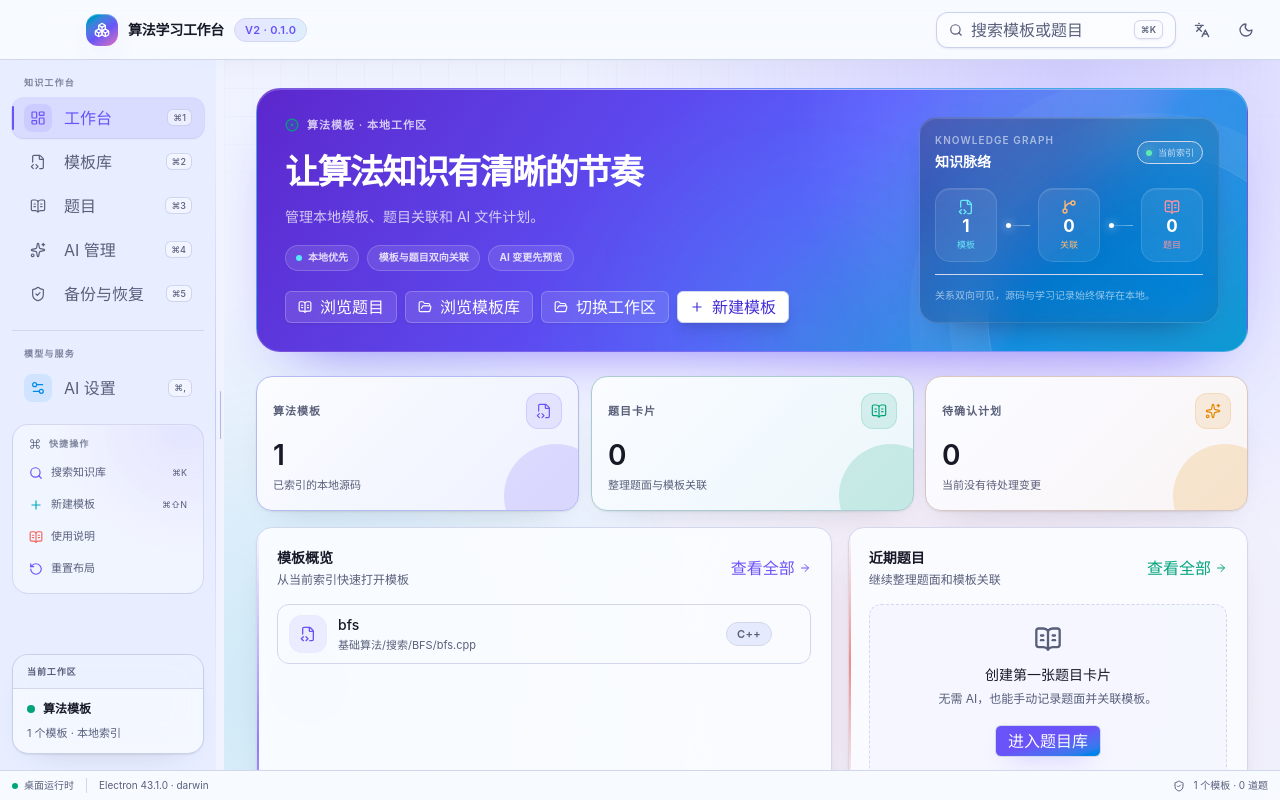
Test: App › opens a template from global search and loads source through the desktop API
Expected: the heading named "工作台" is shown, x1=285 y1=150 x2=642 y2=192
Click the button with aria-label "打开全局搜索".
click(1056, 30)  # box x1=936 y1=12 x2=1176 y2=48
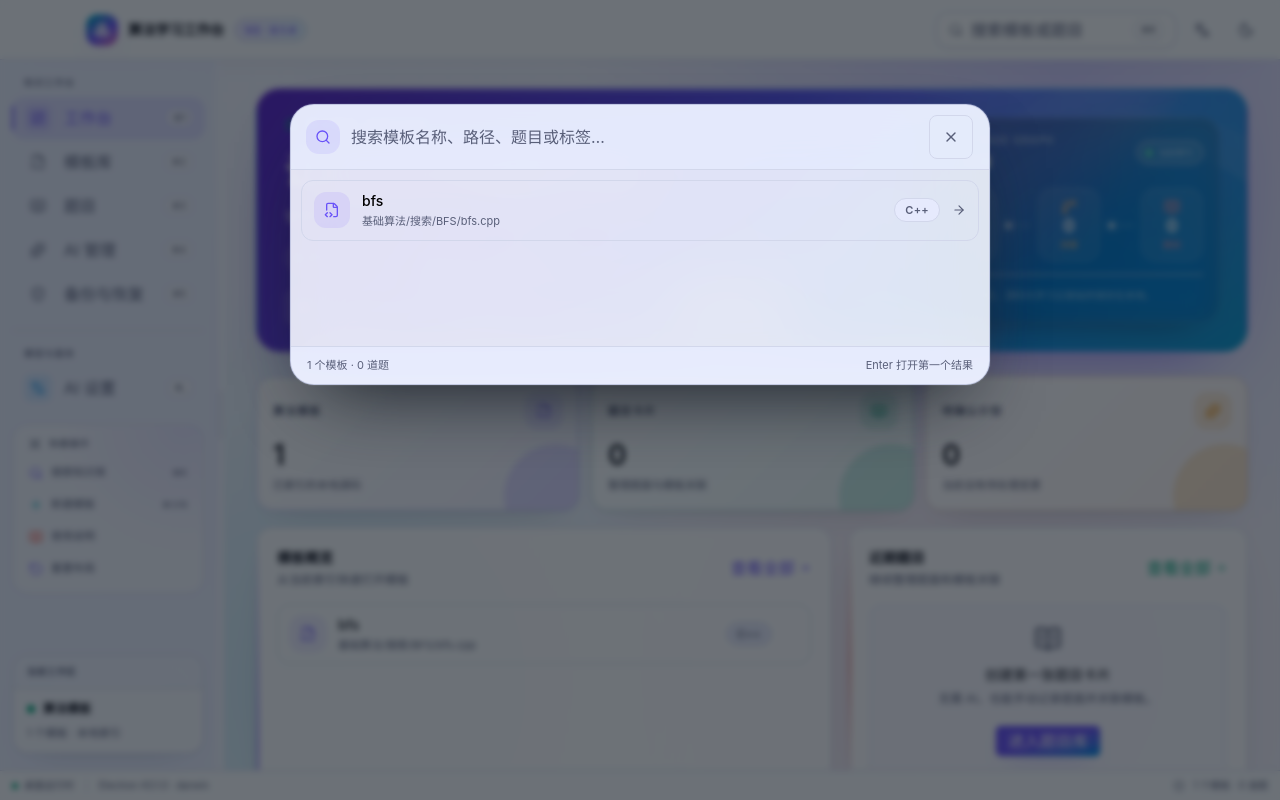
Type "bfs" into the field named "搜索模板、题目或操作".
click(634, 137); type("bfs")  # box x1=351 y1=105 x2=917 y2=169
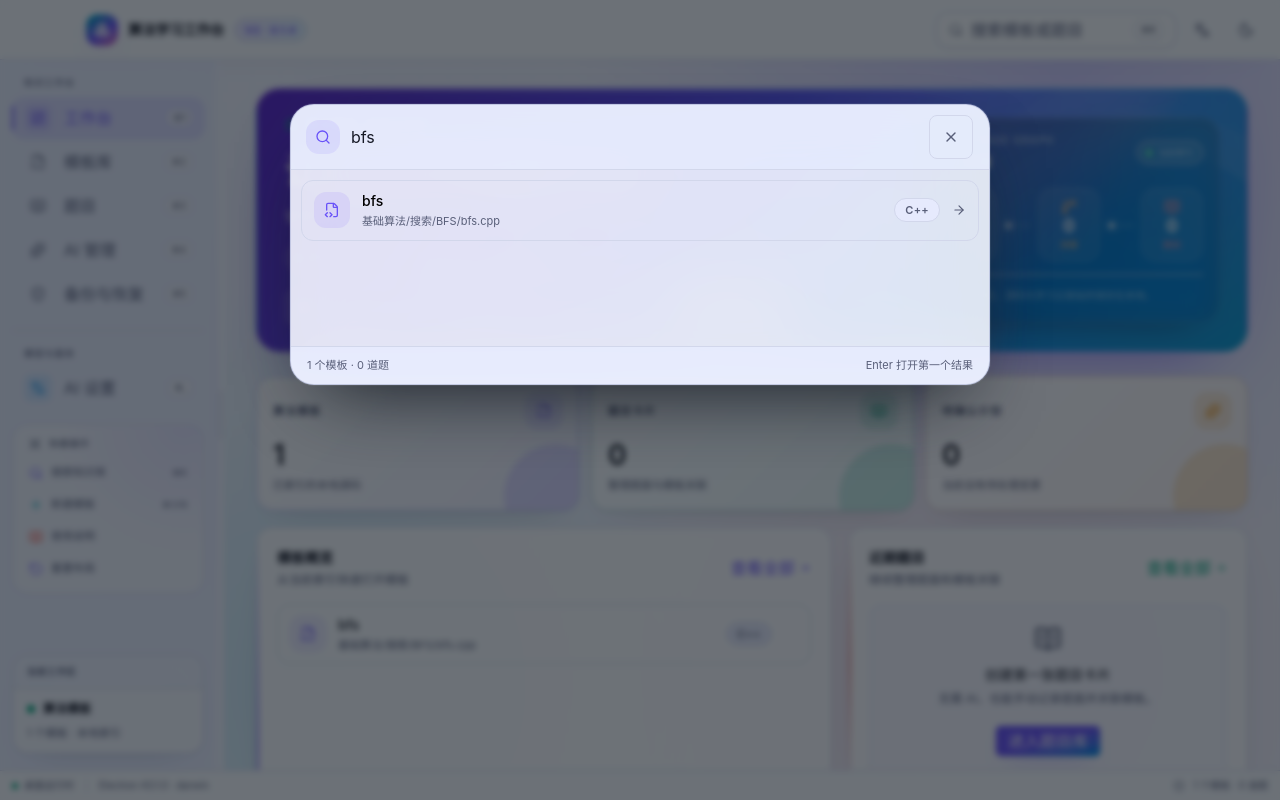
Click the button "bfs 基础算法/搜索/BFS/bfs.cpp C++".
click(332, 210)  # box x1=301 y1=180 x2=979 y2=240
(page scrolled)
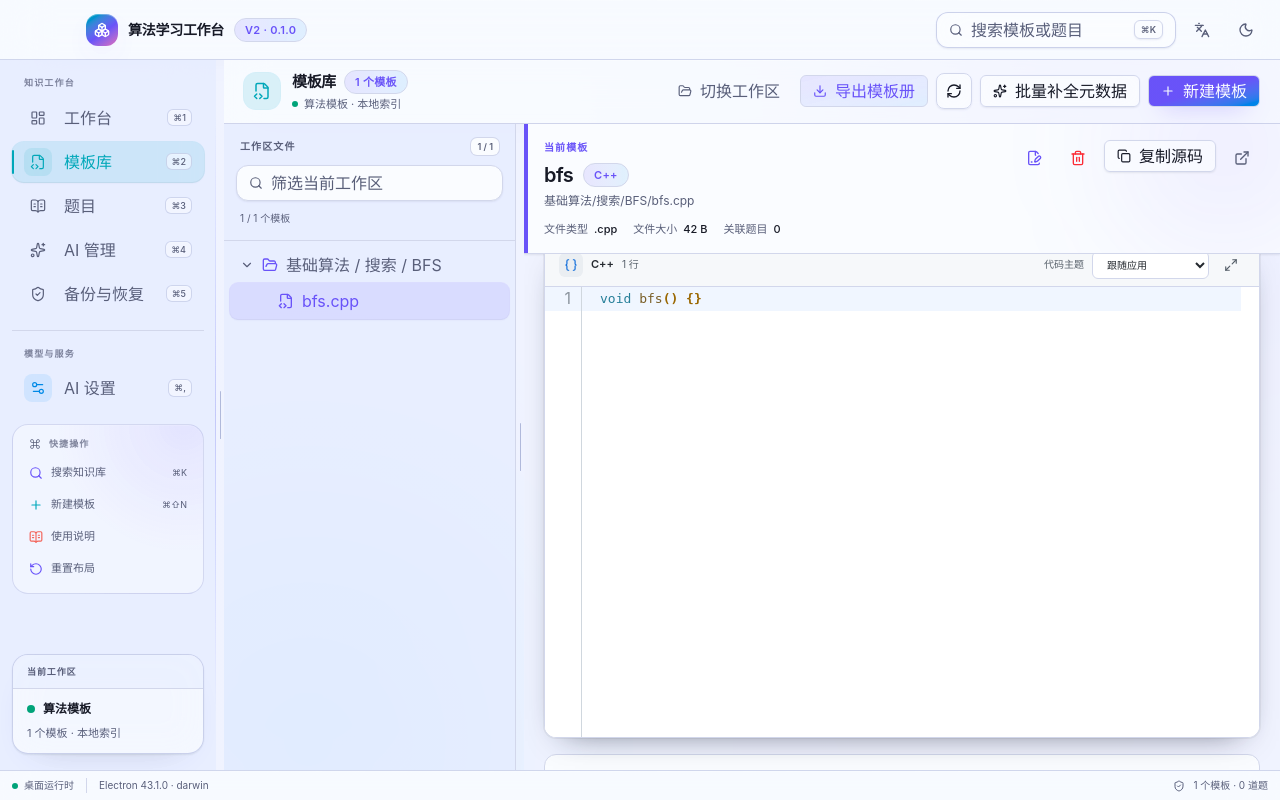
Result: the heading "bfs" is shown at x1=544 y1=160 x2=573 y2=188
Result: the element named "高亮模板源码" shows "void bfs() {}" at x1=545 y1=287 x2=1259 y2=737
